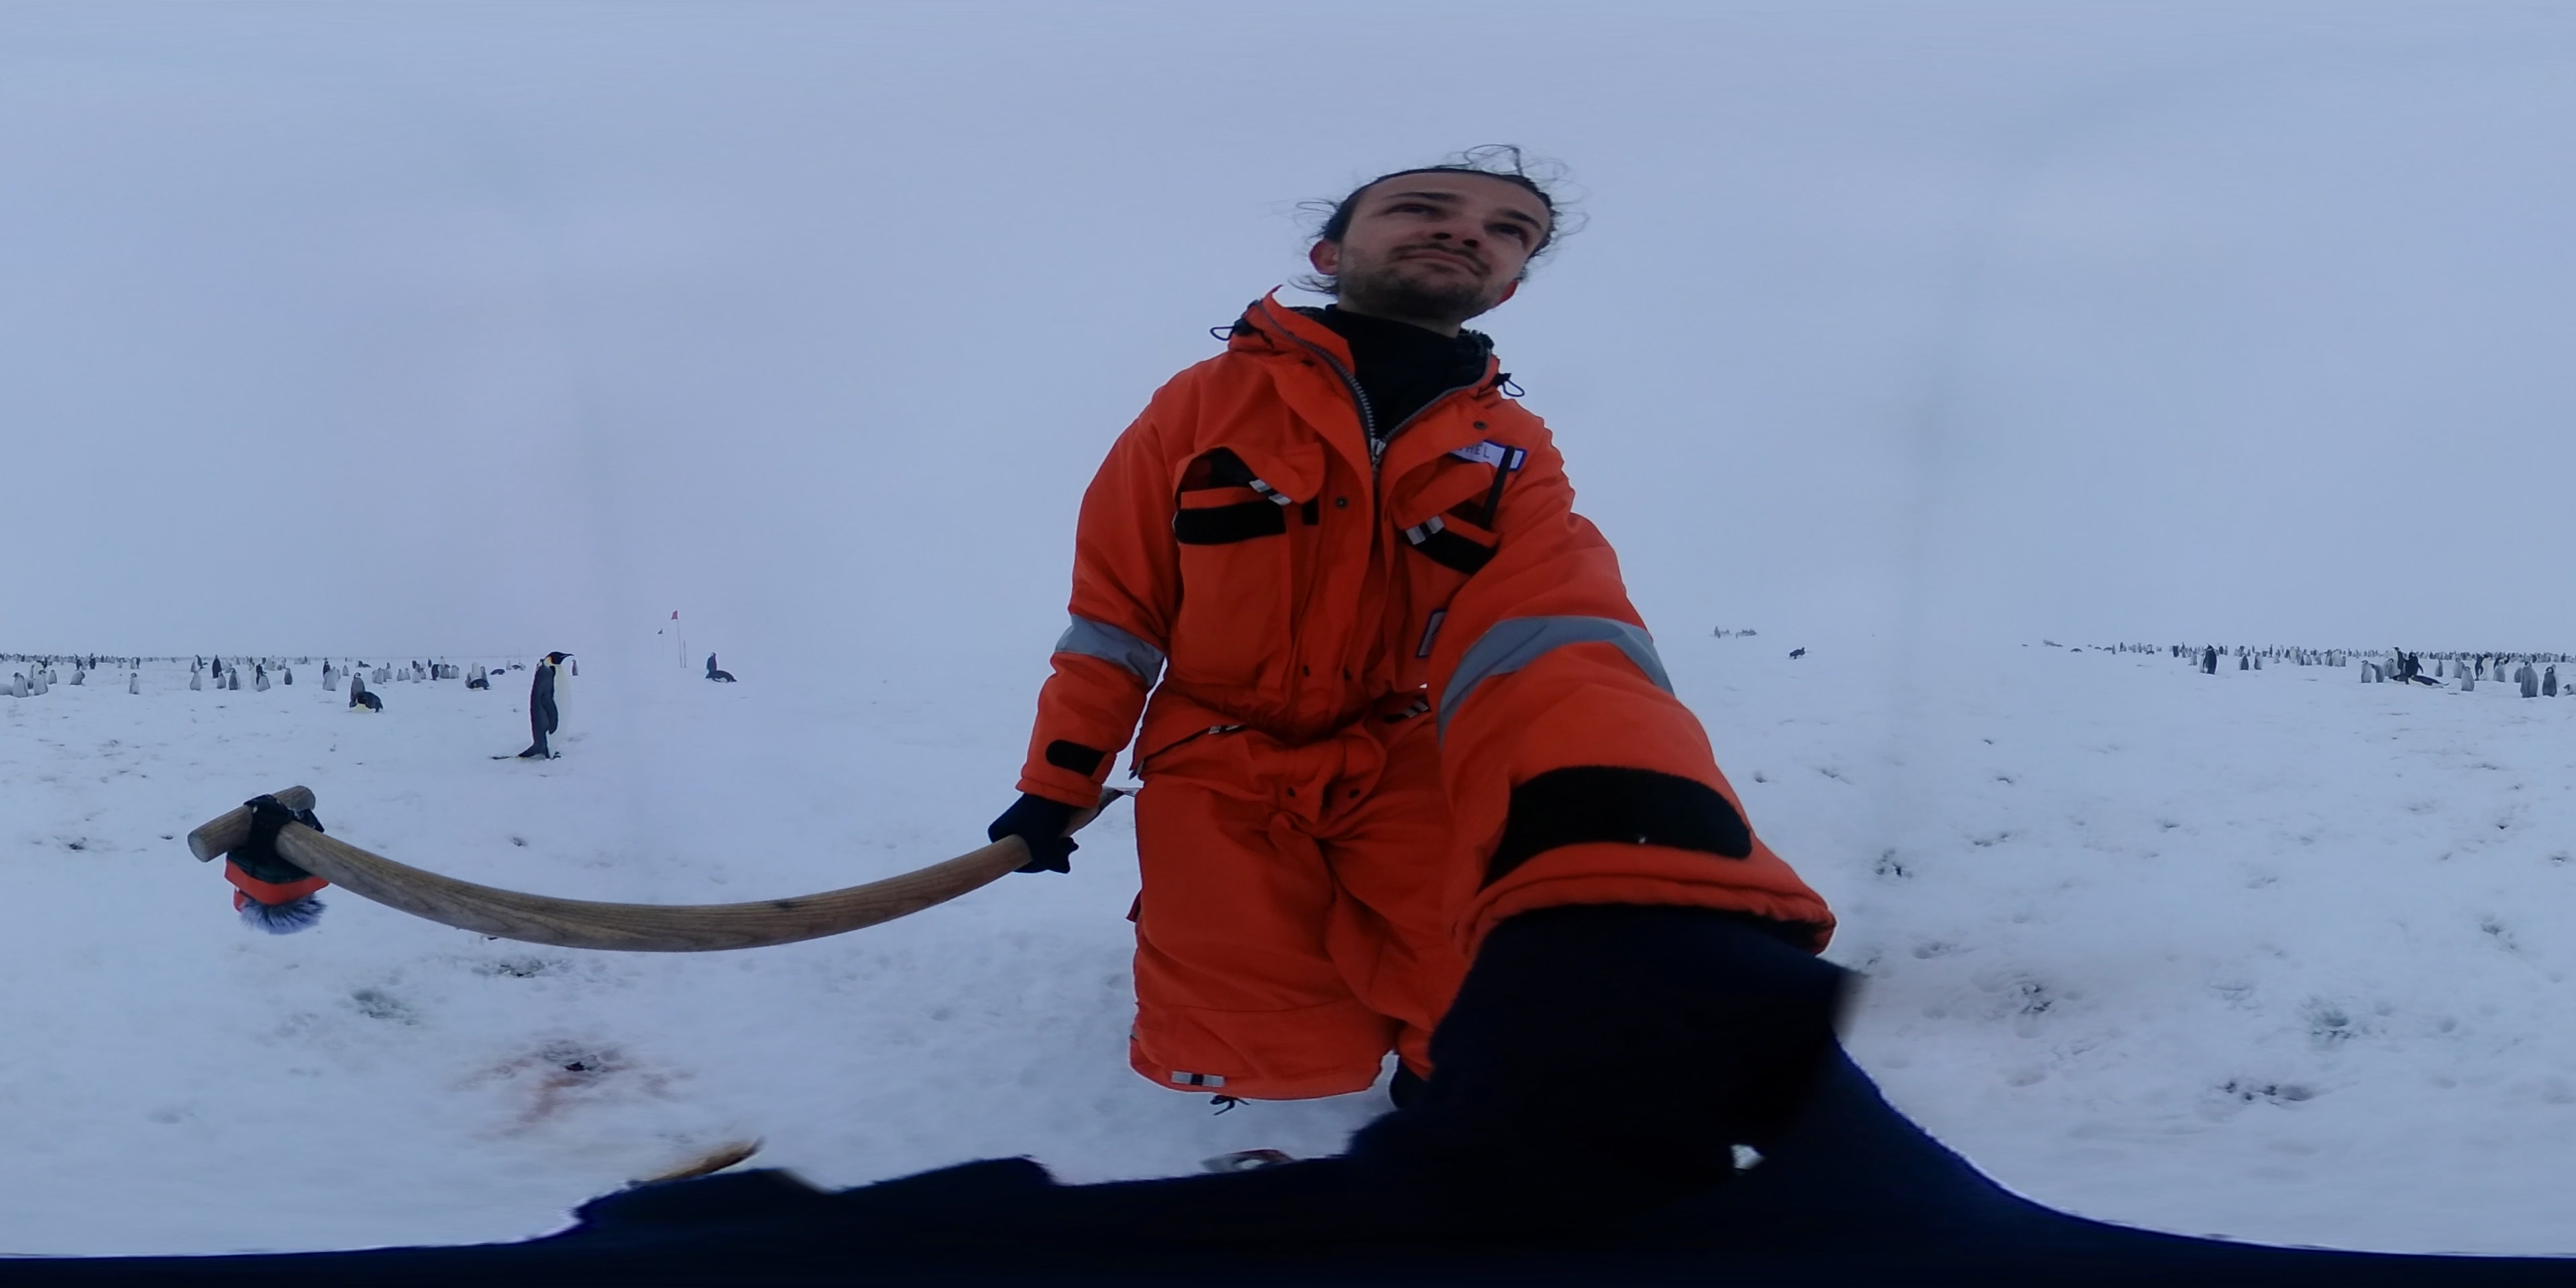adult_standing_penguin: (519, 651, 570, 766), (2200, 642, 2221, 677), (706, 649, 721, 687), (2390, 644, 2405, 678), (2474, 654, 2492, 680)
adult_toboggan_penguin: (2405, 670, 2453, 692), (345, 692, 384, 715), (701, 667, 736, 687), (1784, 644, 1810, 660), (470, 675, 490, 693)
juvenile_penguin: (2520, 657, 2540, 701), (7, 670, 28, 698), (322, 664, 342, 692), (253, 669, 273, 695), (348, 669, 365, 700), (2543, 667, 2560, 698), (125, 672, 145, 697), (227, 667, 243, 693), (2461, 667, 2477, 692), (187, 670, 205, 692), (2357, 659, 2374, 682), (34, 670, 48, 698), (210, 670, 227, 692), (71, 667, 85, 688), (373, 667, 388, 687), (2495, 662, 2507, 685), (283, 665, 294, 687)
researcher: (1073, 143, 1858, 1175)
